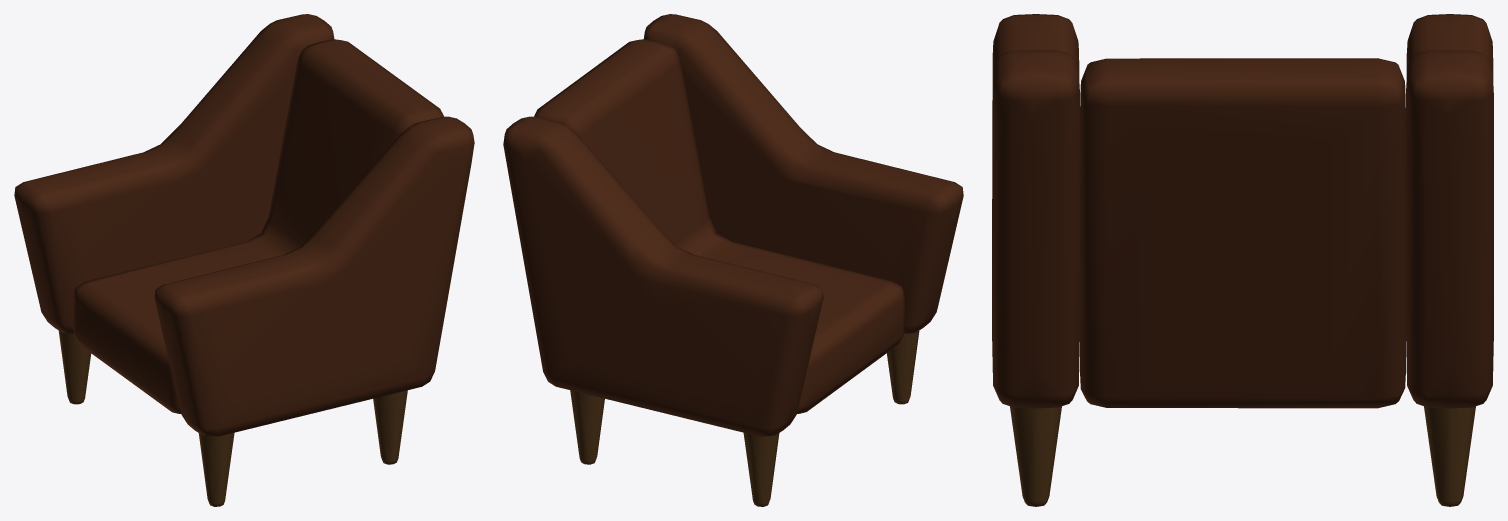
Rendered from armchair_01_leather_brown.fbx.
The picture shows the model from 3 angles, left to right: view 1: azimuth 30°, elevation 25°; view 2: azimuth 150°, elevation 25°; view 3: azimuth 270°, elevation 25°; orthographic projection. The views are drawn at different scales.
Parts seen in each view (by area): view 1: armchair_01_leather_brown; view 2: armchair_01_leather_brown; view 3: armchair_01_leather_brown.
Boxes of the visible parts, x1,y1,x2,y2 form: armchair_01_leather_brown: (14, 14, 474, 506); armchair_01_leather_brown: (503, 14, 963, 506); armchair_01_leather_brown: (992, 14, 1493, 506).
Size of the model in its own units: 101 by 104 by 98.01.
Materials: 1 (1 with a texture image).
